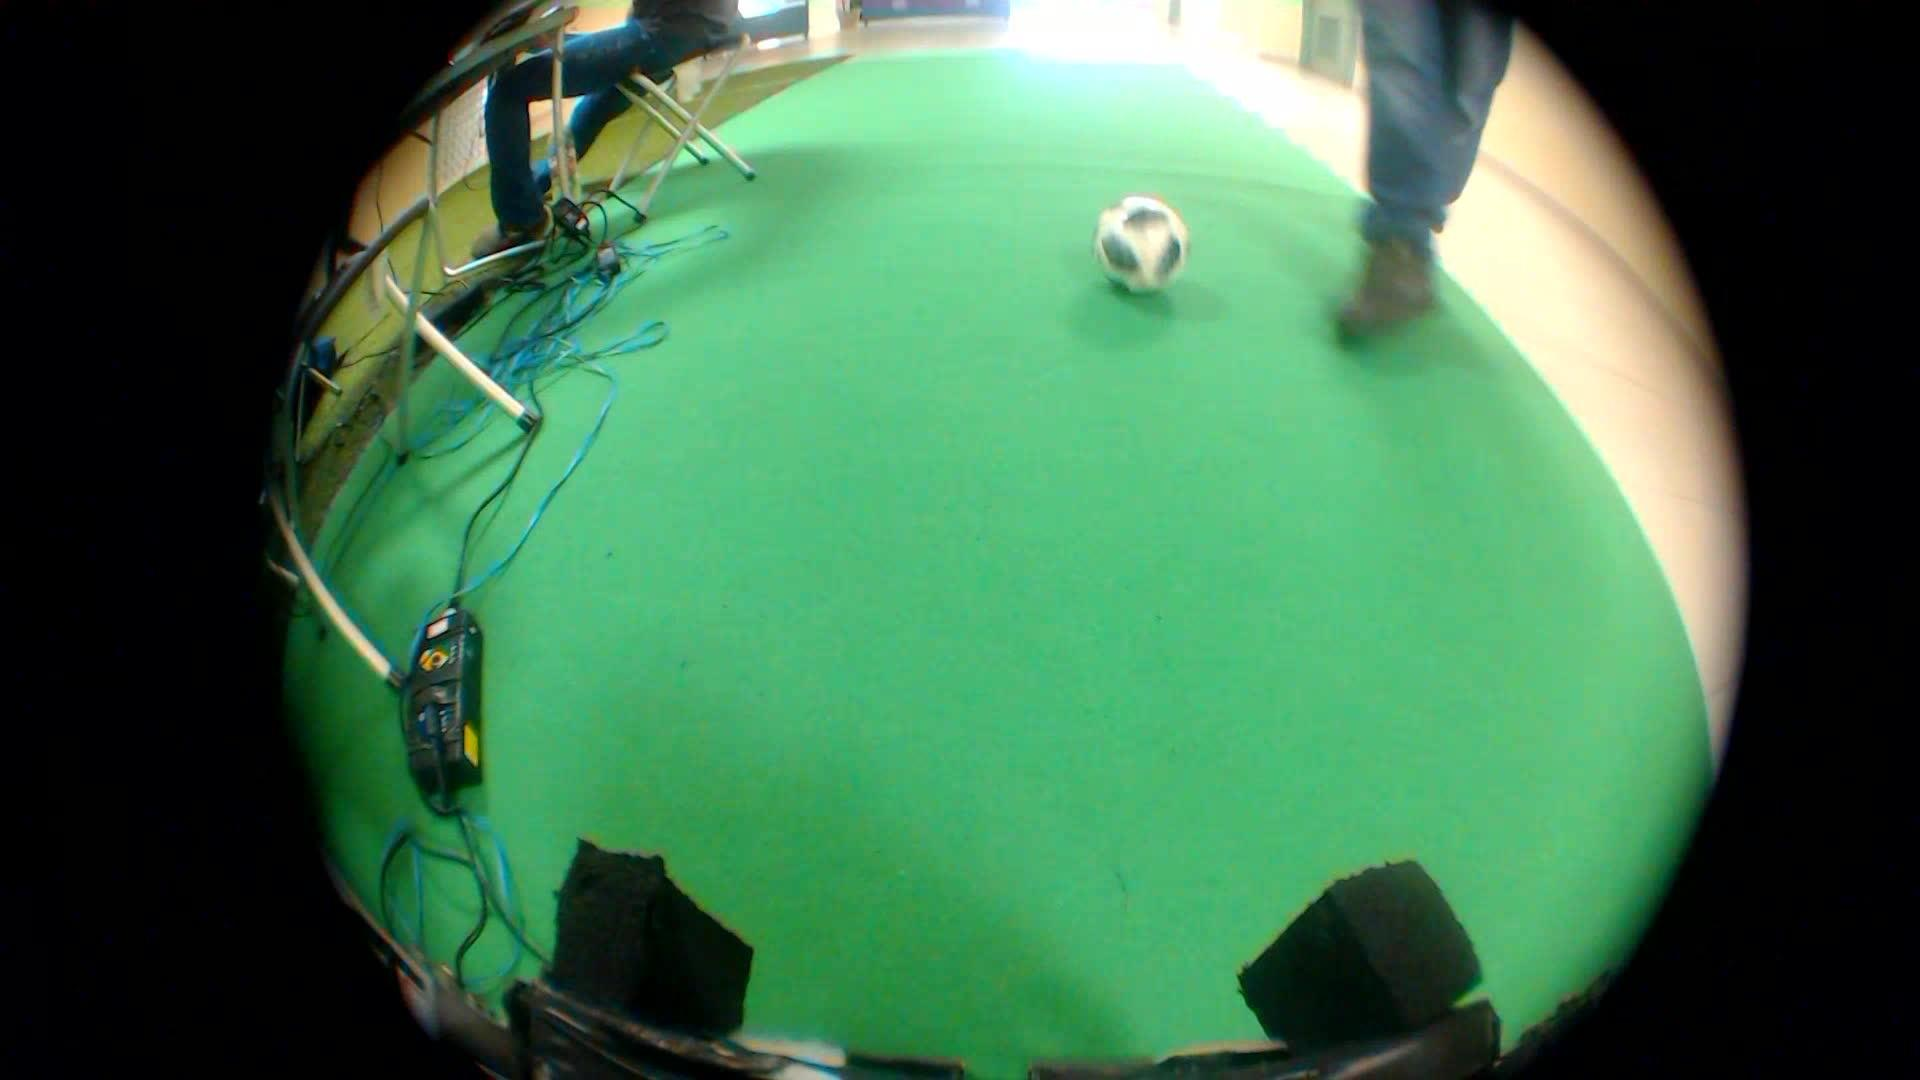ball: (1083, 178, 1199, 297)
